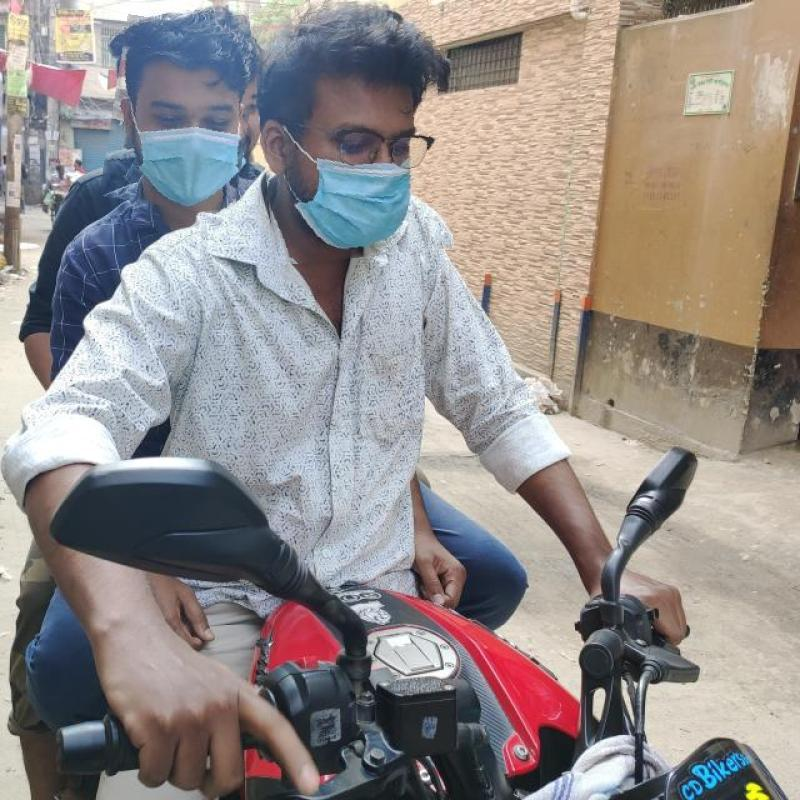nohelmet: (256, 0, 448, 261), (106, 19, 255, 212)
